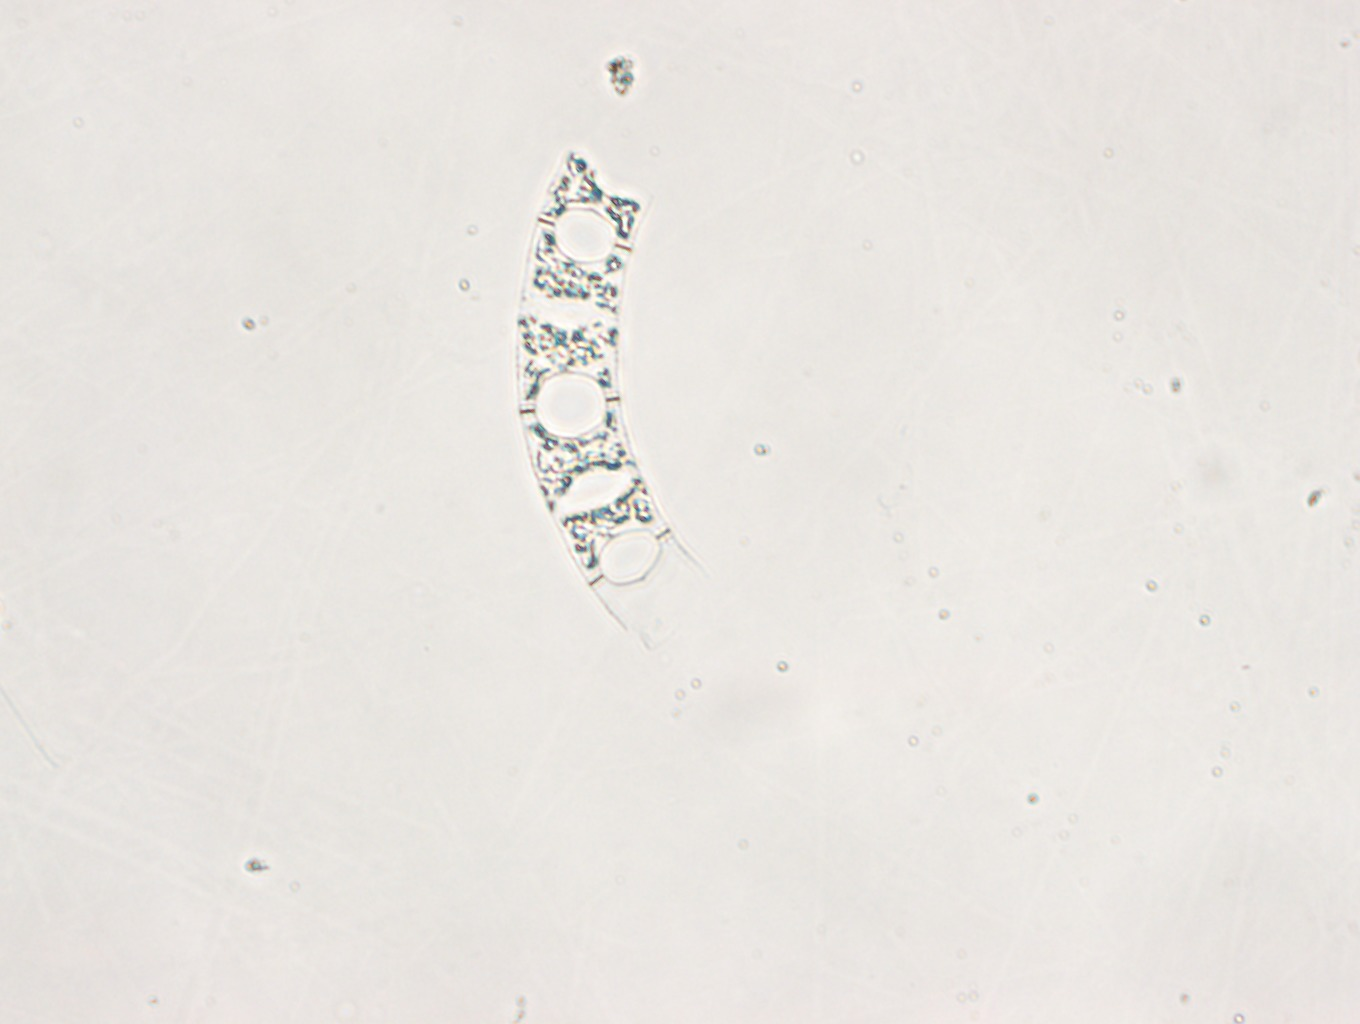eucampia: (513, 145, 703, 632)
